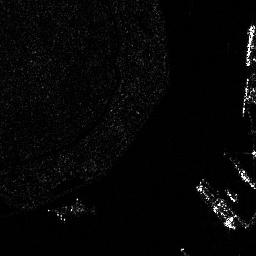ship: (195, 182, 237, 231), (244, 24, 256, 68)
